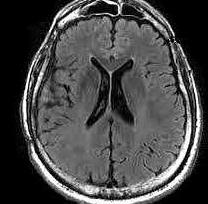Normal_Brain: (11, 1, 208, 204)
